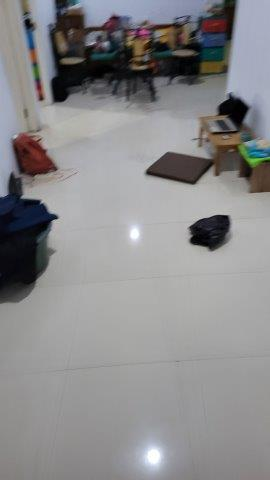plastik: (187, 213, 232, 251)
